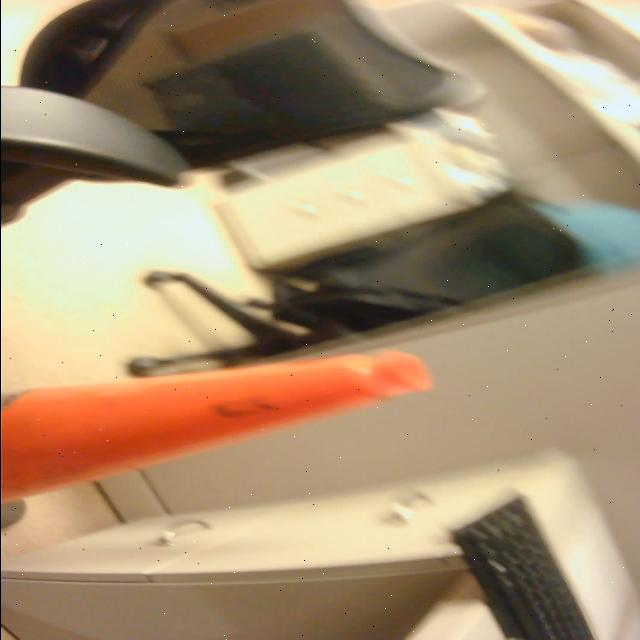traffic cone: (1, 347, 438, 535)
